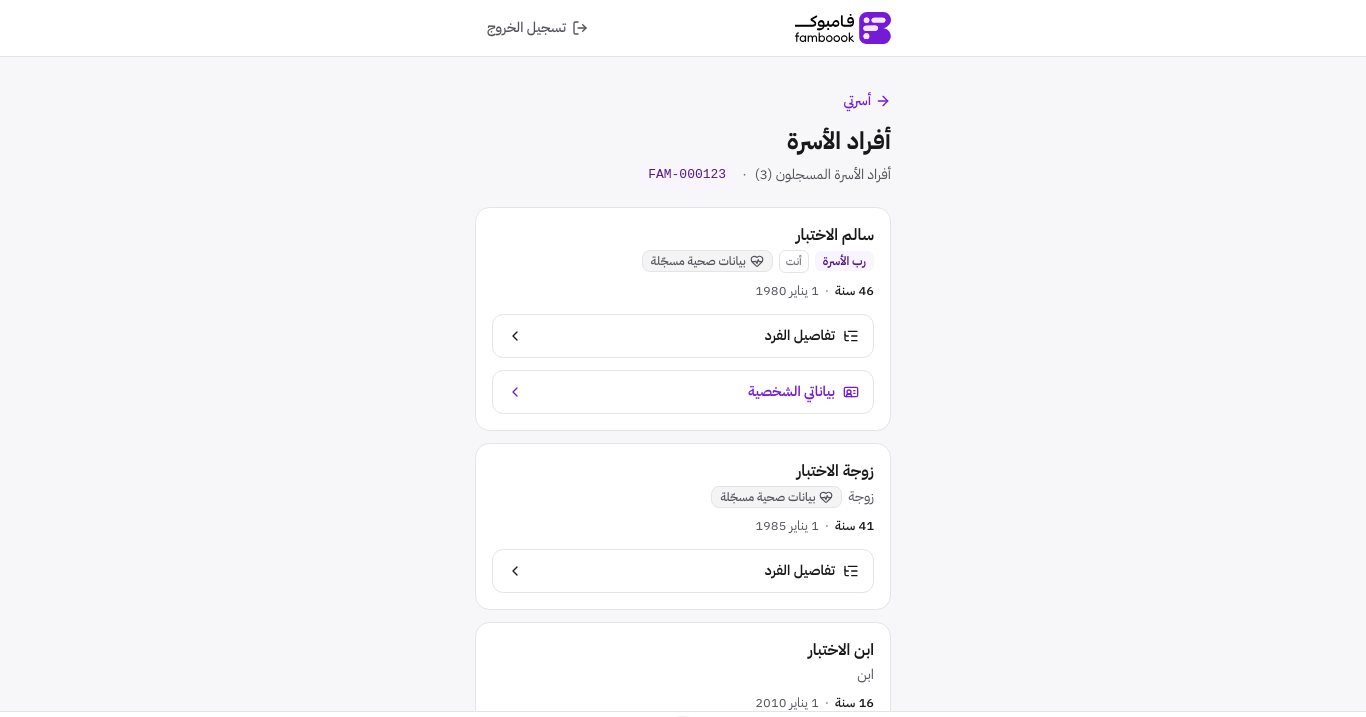
the member sheet «الحالة الصحية» › shows the head's own records too, in the applicable sub-group only
Click the button "تفاصيل الفرد" below "سالم الاختبار".
click(800, 335)  # box [492,314,874,358]
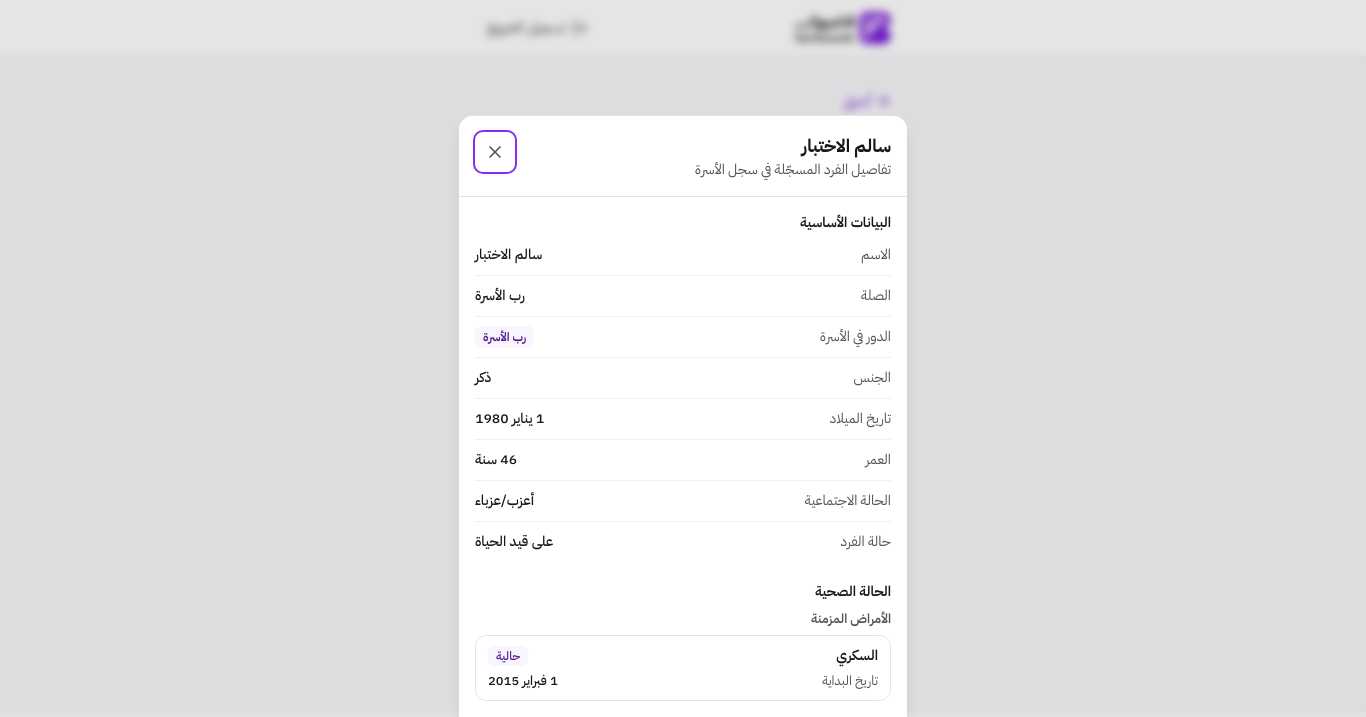
expect the text "السكري" is shown: met, box [836,645,878,666]
expect the heading "الأمراض المزمنة" is shown: met, box [811,609,891,628]
